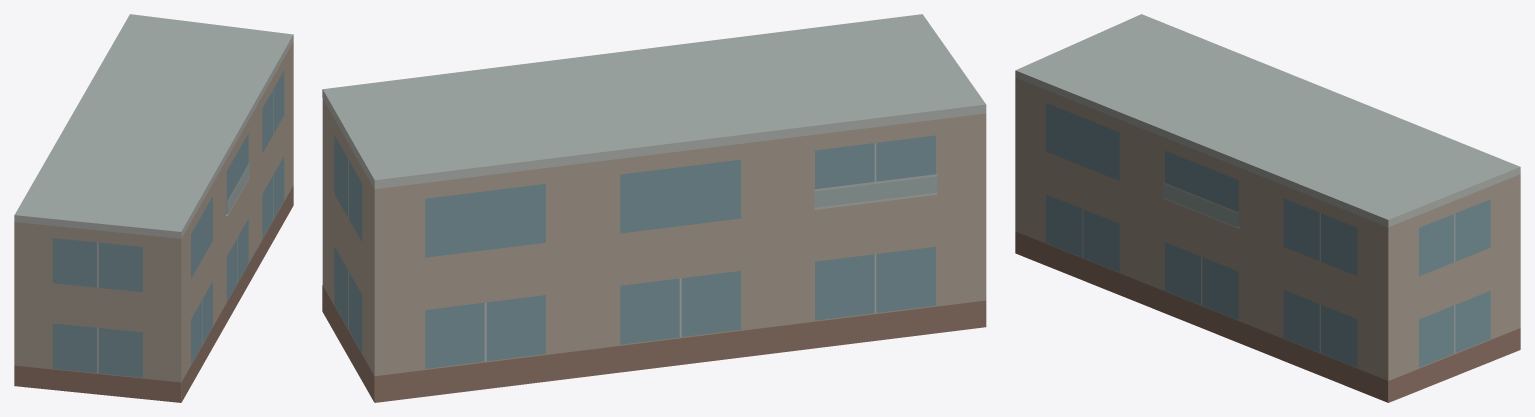
The model's file is survey-upis-32697581.glb.
3 renders of one model, left to right at view 1: azimuth 30°, elevation 25°; view 2: azimuth 150°, elevation 25°; view 3: azimuth 270°, elevation 25°, orthographic. The views are drawn at different scales.
Parts seen in each view (by area): view 1: survey-upis-32697581.tmp; view 2: survey-upis-32697581.tmp; view 3: survey-upis-32697581.tmp.
Part boxes in pixels (x1,y1,x2,y2): survey-upis-32697581.tmp: [14, 14, 293, 402]; survey-upis-32697581.tmp: [322, 14, 986, 402]; survey-upis-32697581.tmp: [1015, 14, 1520, 402].
Size of the model in its own units: 14.74 by 6.1 by 15.28.
